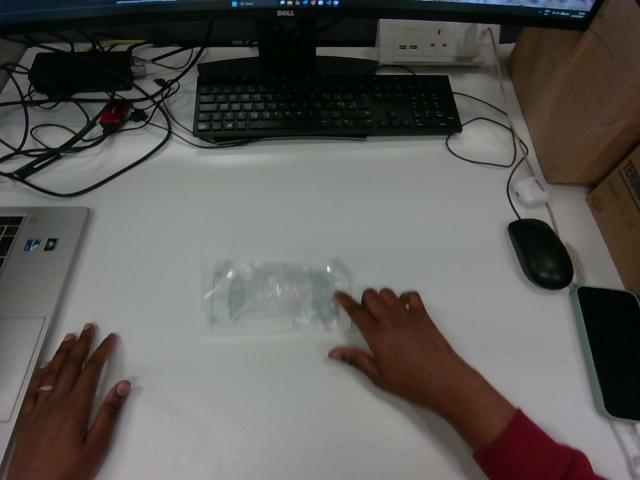gallipot: (201, 260, 349, 335)
